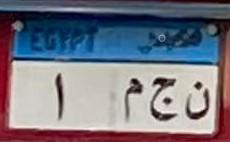1: (52, 72, 68, 119)
jeem: (148, 73, 180, 124)
meem: (120, 72, 145, 122)
noon: (184, 79, 212, 125)
